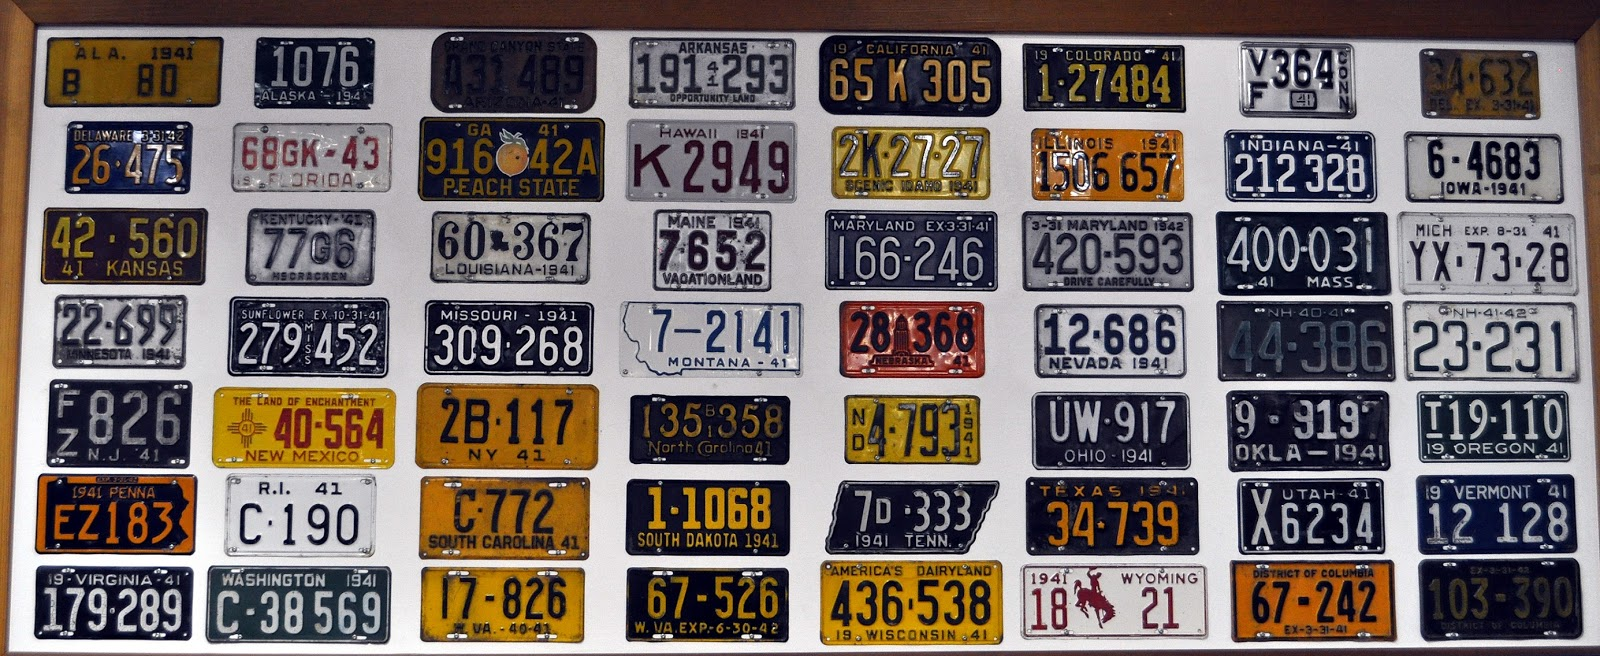number_plate: (414, 380, 601, 472), (817, 34, 1007, 123), (1020, 205, 1199, 299), (819, 558, 1003, 649), (205, 559, 396, 646), (418, 474, 596, 563), (423, 299, 598, 389), (36, 206, 211, 289), (428, 207, 597, 289), (629, 34, 798, 111), (1417, 387, 1576, 467), (33, 563, 189, 644), (1034, 300, 1187, 381), (1223, 128, 1379, 202)
